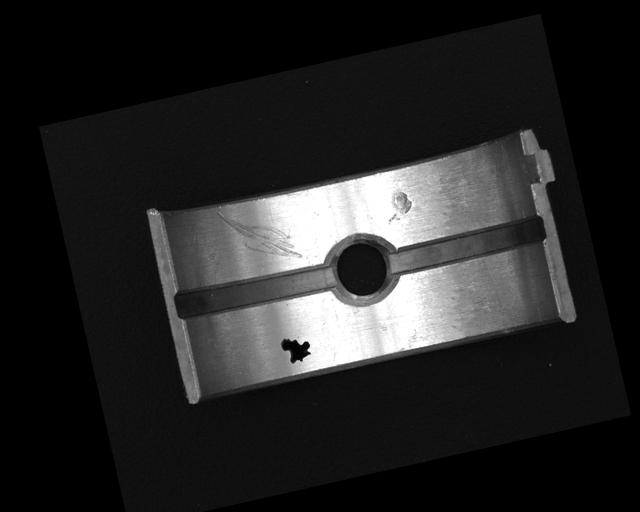blot: (279, 332, 313, 366)
bruise: (382, 189, 416, 225)
gap: (173, 256, 340, 323), (386, 214, 548, 276)
hole: (321, 230, 401, 311)
nick: (216, 195, 302, 274)
